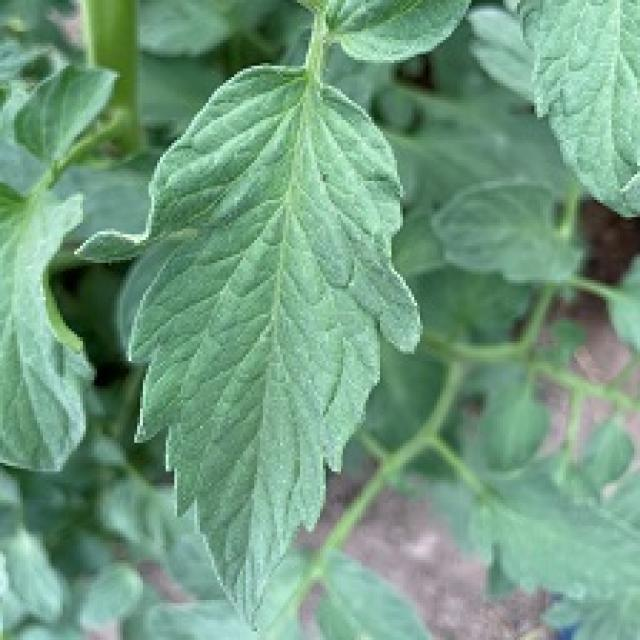Healthy: (31, 0, 509, 633)
